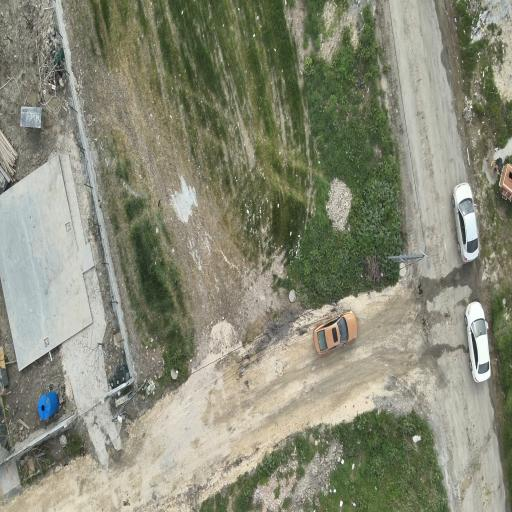car: (451, 182, 479, 262), (465, 302, 490, 382), (314, 311, 357, 354)
